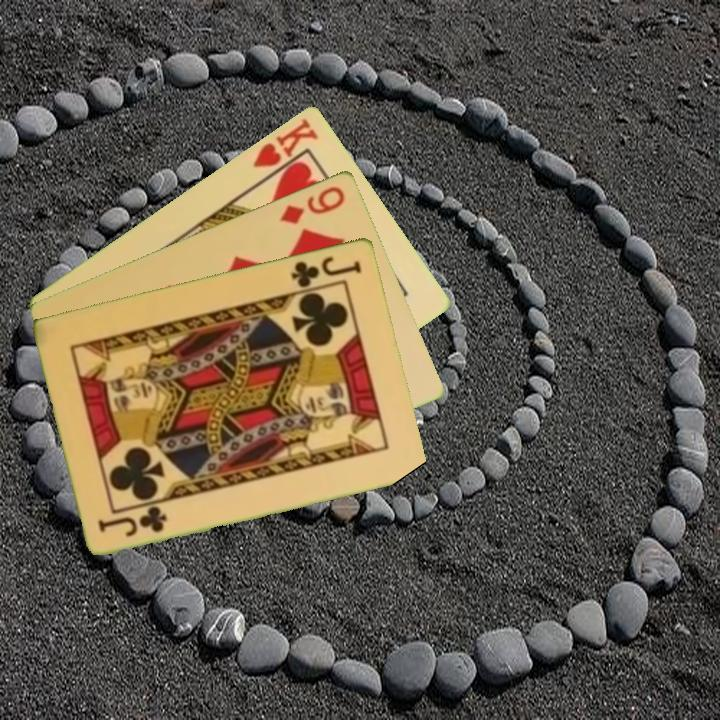9d: (276, 182, 348, 227)
Jc: (288, 252, 365, 290), (95, 503, 170, 540)
Kh: (249, 114, 322, 184)
